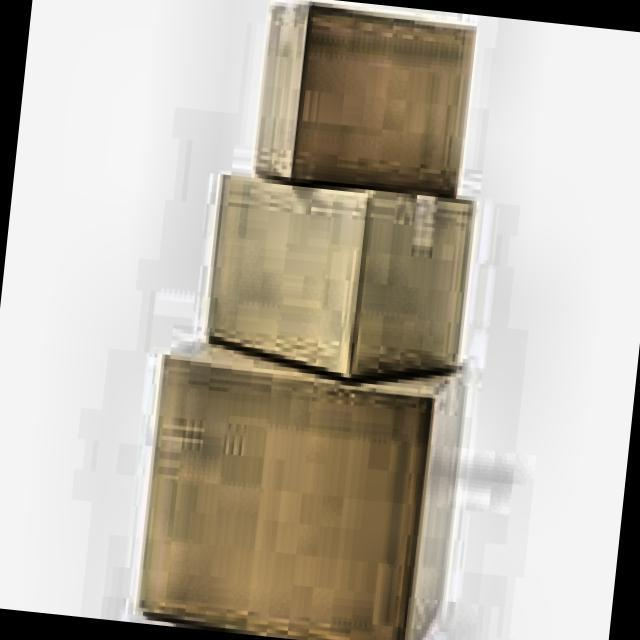cardboard: (131, 330, 469, 640), (198, 165, 477, 388), (251, 0, 477, 199)
